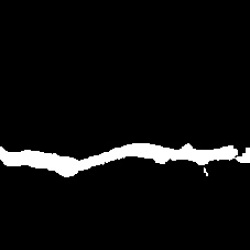crack: (1, 143, 250, 176)
